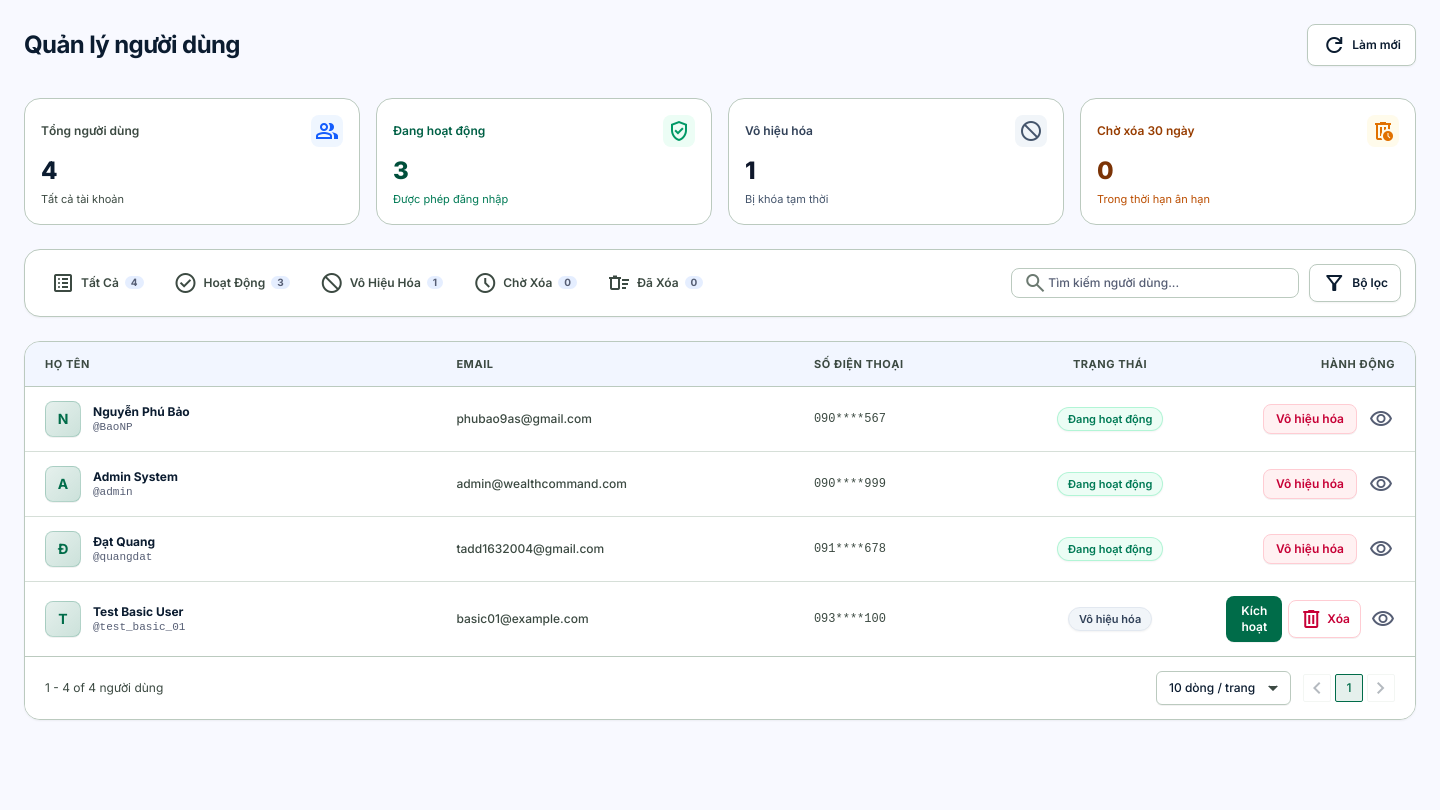
Test: UserListPage Refinements & 2-Tier Architecture Suite › 🧱 TẦNG 1: UI Rendering & Header / Filter Modal i18n Verification › 1.2. Filter Modal i18n: Hiển thị "Gói dịch vụ" khi dùng Tiếng Việt (vi)
// Mở modal bộ lọc
Click the button "Bộ lọc". click: (1355, 282)
box: [1309,264,1401,302]
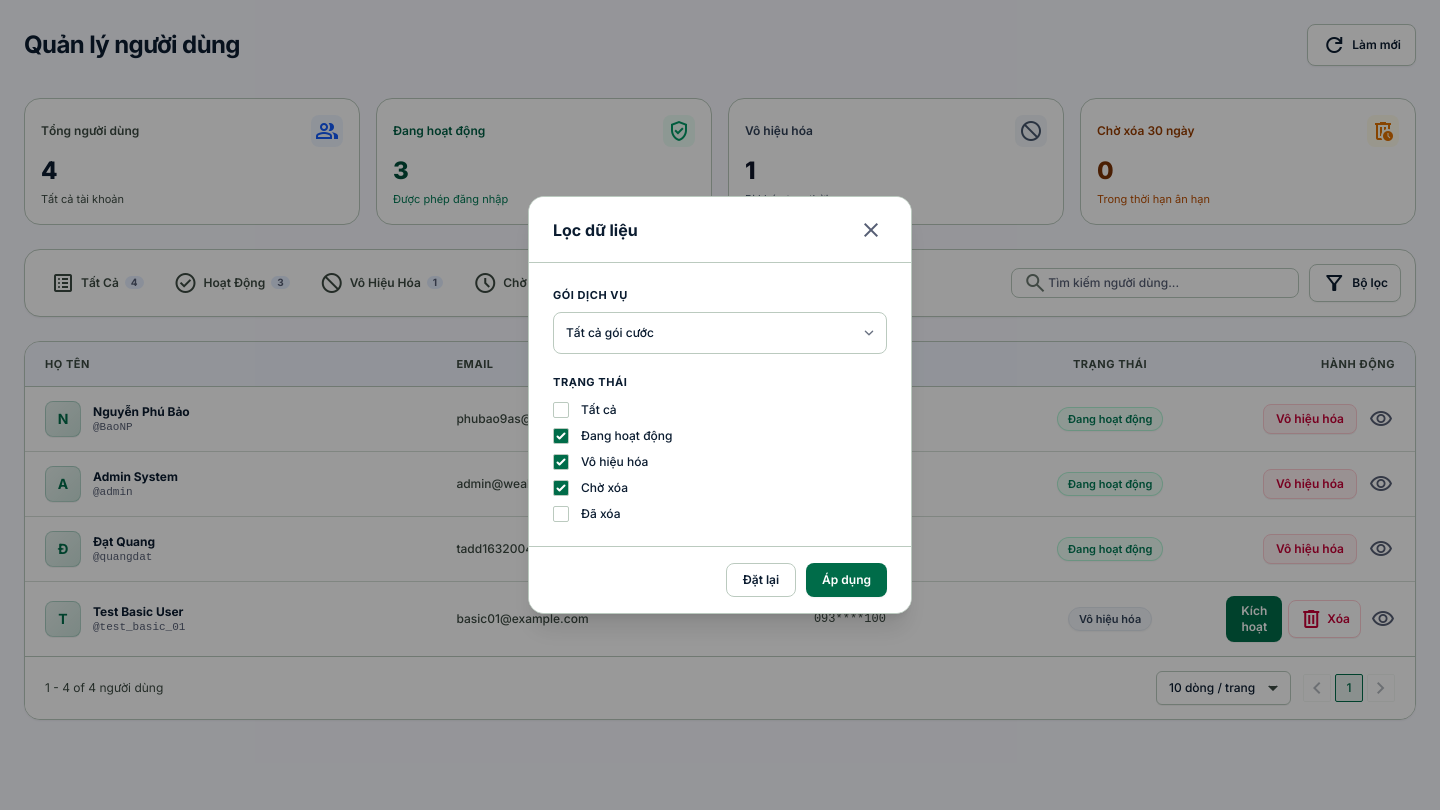
Check: the text "Gói dịch vụ" is shown, box [553,288,628,302]
Check: the dropdown with test id "filter-package" is shown, box [553,312,887,354]
